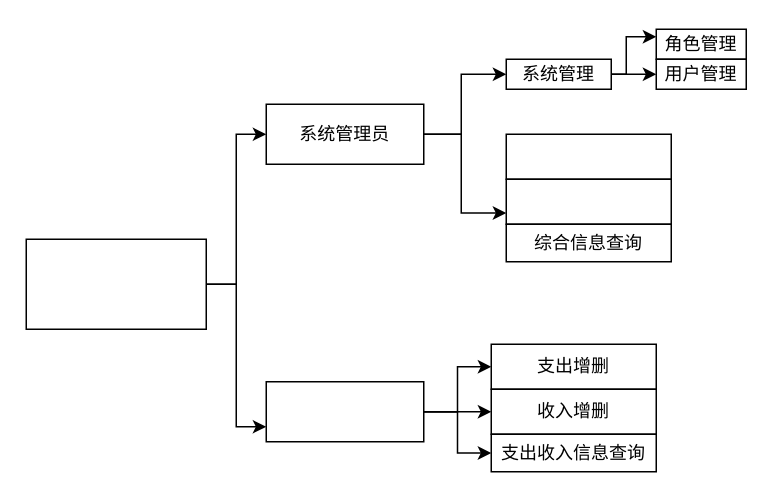
Some shapes in this 773 by 498 pixel diagram are drawn without their labels. Each missing label, with the centre of its shape:
"成员支出增删" goes at point (588, 156).
"成员收入增删" goes at point (588, 201).
"用户" goes at point (344, 411).
"系统角色分类" goes at point (115, 283).
